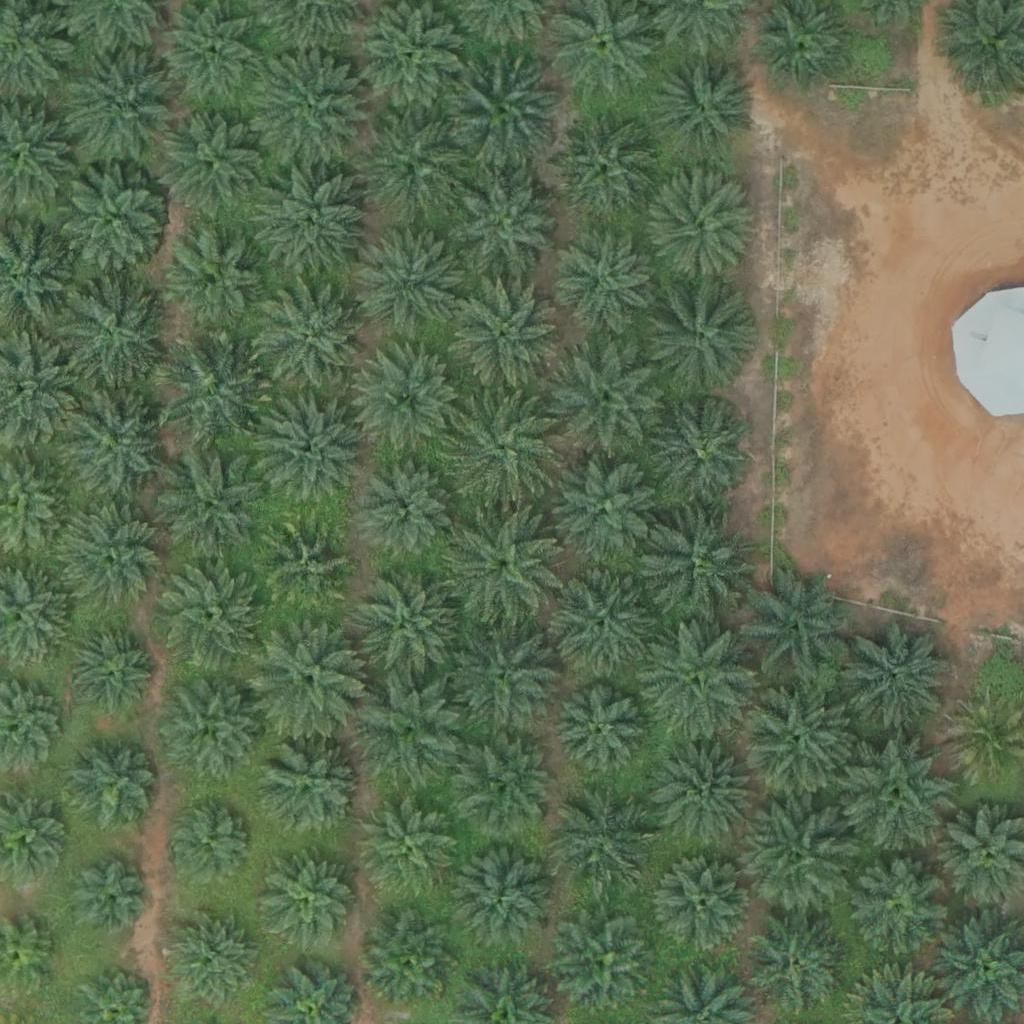Kelapa_Sawit: (256, 54, 369, 168), (355, 110, 468, 224), (356, 225, 469, 339), (844, 621, 957, 735), (842, 737, 955, 851), (742, 572, 855, 686), (252, 167, 365, 280), (259, 285, 372, 398), (352, 344, 465, 457), (545, 110, 658, 223), (648, 49, 761, 162), (648, 172, 761, 285), (643, 284, 756, 397), (447, 511, 560, 624), (446, 616, 559, 729), (349, 565, 462, 678), (58, 388, 171, 501), (449, 165, 561, 279), (448, 282, 560, 396), (551, 343, 663, 457), (742, 678, 854, 792), (645, 511, 757, 625), (65, 49, 177, 162), (59, 161, 171, 274), (54, 274, 166, 387), (158, 104, 270, 217), (155, 334, 267, 447), (449, 58, 561, 171), (443, 391, 555, 504), (739, 803, 851, 916), (642, 625, 754, 738), (546, 570, 658, 683), (355, 672, 467, 785), (253, 621, 365, 734), (152, 560, 264, 673), (548, 455, 660, 568), (252, 388, 364, 501), (156, 447, 268, 560), (167, 227, 267, 328), (747, 919, 847, 1020), (653, 742, 753, 843), (654, 855, 754, 956), (553, 787, 653, 888), (555, 913, 655, 1014), (461, 737, 561, 838), (455, 845, 555, 946), (362, 794, 462, 895), (361, 911, 461, 1012), (260, 736, 360, 837), (259, 852, 359, 953), (163, 680, 263, 781), (60, 502, 160, 603), (162, 5, 262, 105), (554, 230, 654, 330), (653, 403, 753, 503), (848, 859, 948, 959), (759, 1, 847, 90), (263, 522, 351, 611), (555, 689, 642, 777), (166, 796, 253, 884), (168, 908, 255, 996), (65, 626, 152, 714), (71, 745, 158, 833), (364, 465, 451, 553), (71, 860, 146, 936)
